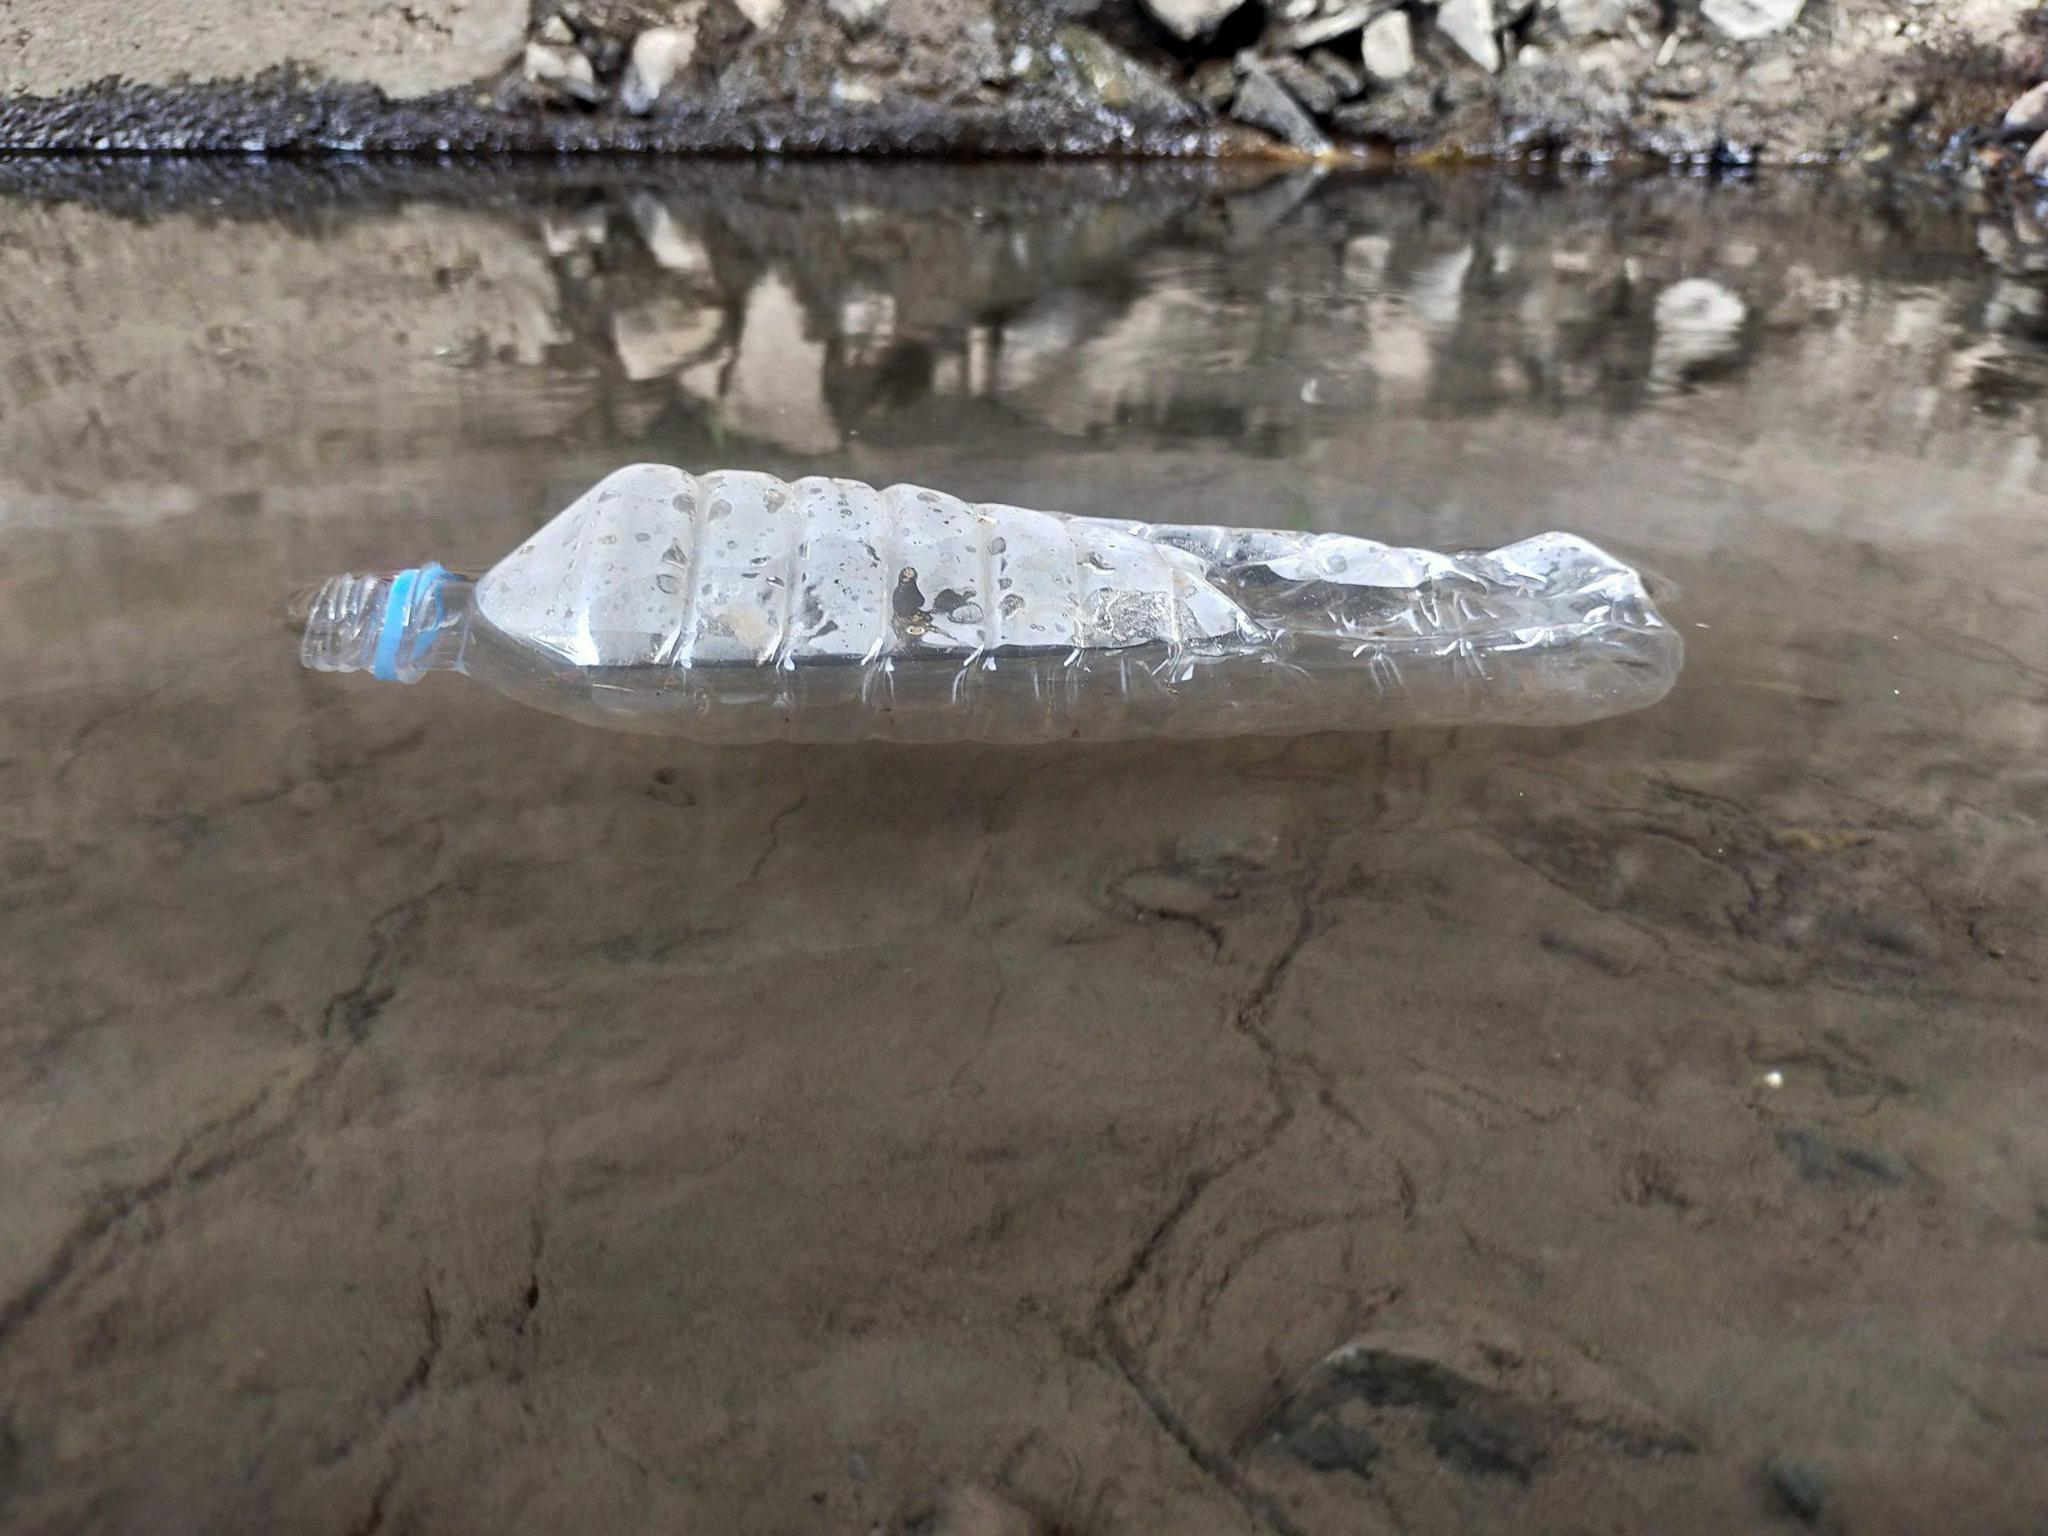bottle: (313, 380, 1723, 916)
